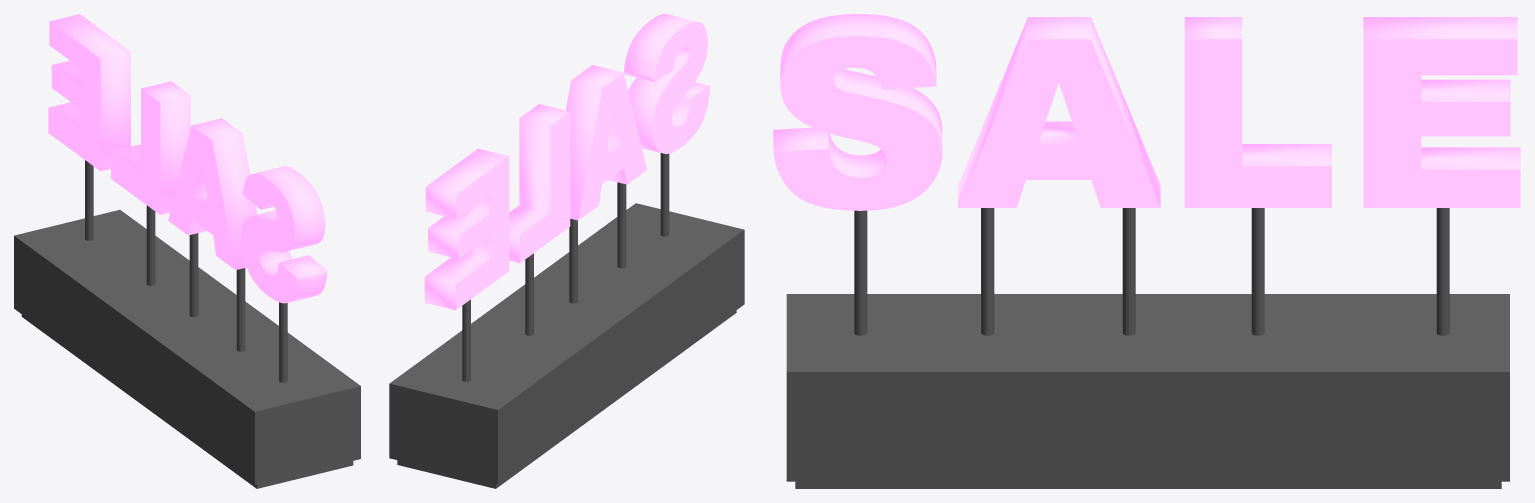
The model's file is sale_stand.fbx.
3 renders of one model, left to right at view 1: azimuth 30°, elevation 25°; view 2: azimuth 150°, elevation 25°; view 3: azimuth 270°, elevation 25°, orthographic. The views are drawn at different scales.
Visible parts, largest first — view 1: SM_sale; view 2: SM_sale; view 3: SM_sale.
Boxes of the visible parts, box(x1,y1,x2,y2) form: SM_sale: box(14, 14, 360, 488); SM_sale: box(389, 14, 744, 488); SM_sale: box(773, 14, 1520, 488).
Size of the model in its own units: 50.87 by 131 by 207.
